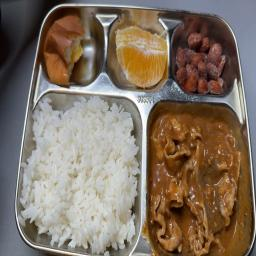100_beef: (148, 105, 246, 256)
100_nuts: (175, 30, 224, 96)
100_orange: (112, 18, 168, 92)
100_rice: (26, 93, 135, 254)
50_bread: (42, 6, 106, 87)
